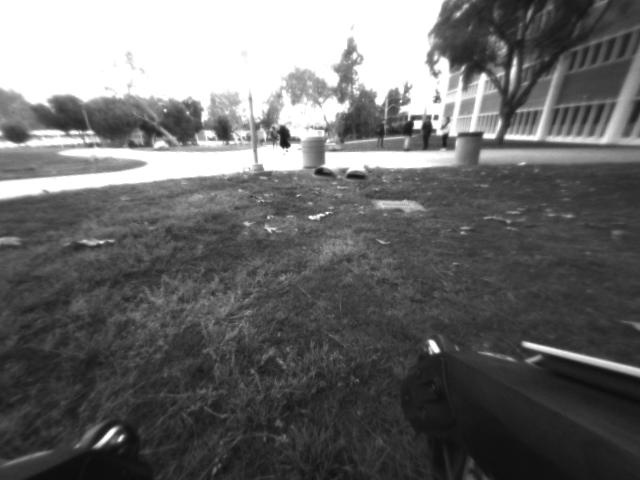trashcan: (450, 128, 483, 170), (304, 135, 330, 174)
